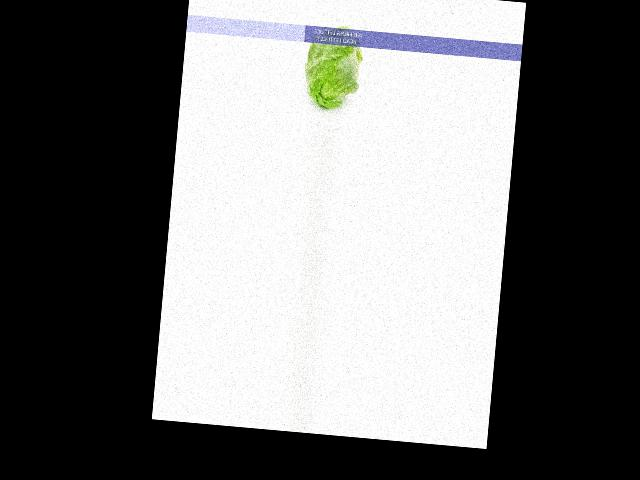lettuce: (303, 23, 365, 115)
